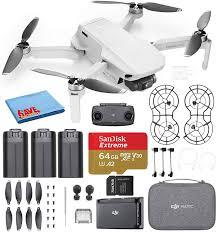drone: (0, 0, 210, 123)
